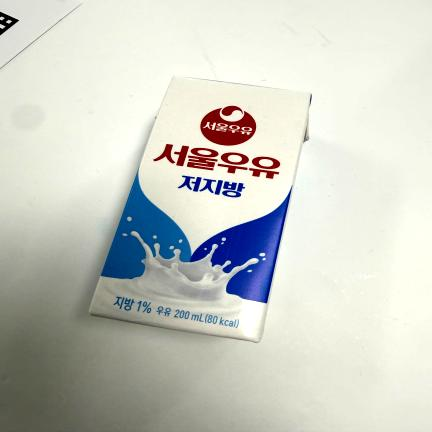milk_blue: (90, 77, 310, 342)
